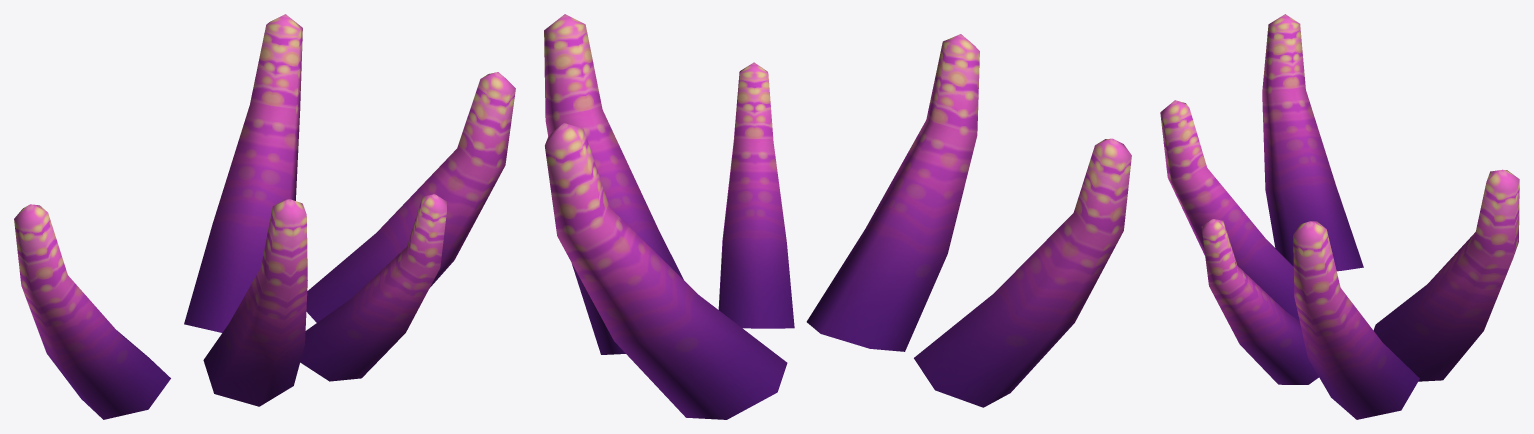
File: Coral_13a.FBX
3 views of the same model, side by side, from view 1: azimuth 30°, elevation 25°; view 2: azimuth 150°, elevation 25°; view 3: azimuth 270°, elevation 25° (orthographic). The views are drawn at different scales.
Parts seen in each view (by area): view 1: Coral_13a; view 2: Coral_13a; view 3: Coral_13a.
Boxes of the visible parts, bbox=[...] form: Coral_13a: bbox=[14, 14, 515, 419]; Coral_13a: bbox=[544, 14, 1131, 419]; Coral_13a: bbox=[1160, 14, 1519, 419].
Bounding box in the file's own units: 42.99 × 21.95 × 29.23.
